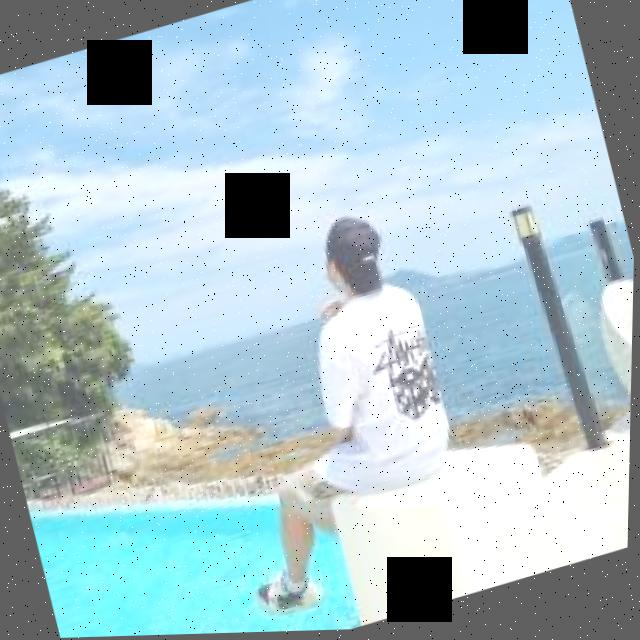shoe: (260, 576, 325, 617)
